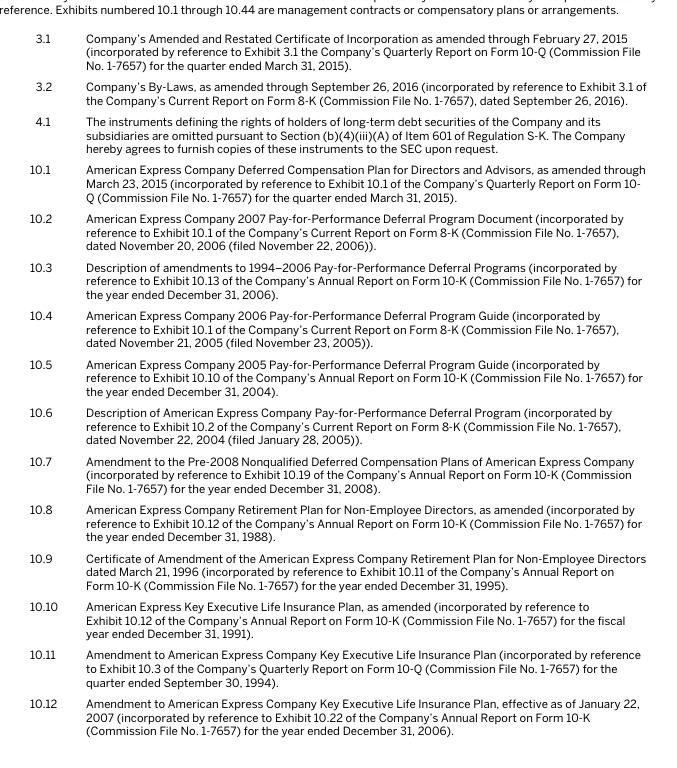table: (28, 29, 645, 737)
table column: (70, 29, 645, 737), (28, 29, 70, 737)
table row: (28, 109, 645, 158), (28, 206, 645, 255), (28, 303, 645, 352), (28, 400, 645, 449), (28, 497, 645, 546), (28, 594, 645, 643), (28, 158, 645, 206), (28, 255, 645, 303), (28, 352, 645, 400), (28, 449, 645, 497), (28, 546, 645, 594), (28, 643, 645, 691), (28, 691, 645, 737), (28, 29, 645, 74), (28, 74, 645, 109)
